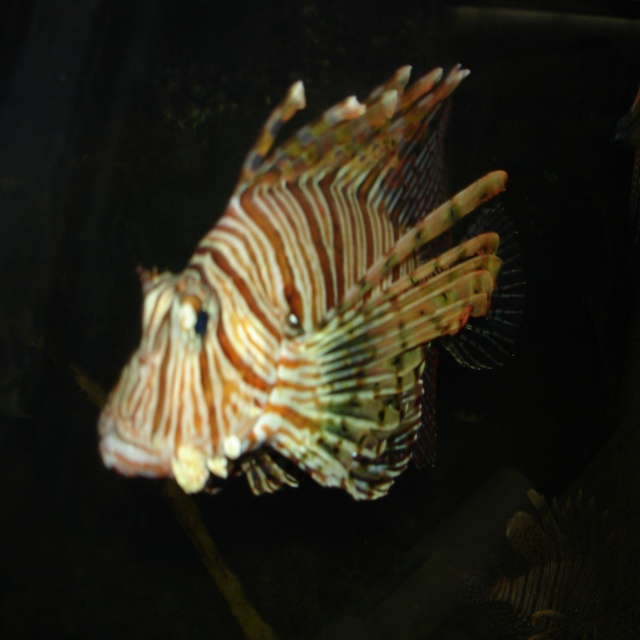Fish: (96, 42, 521, 517)
